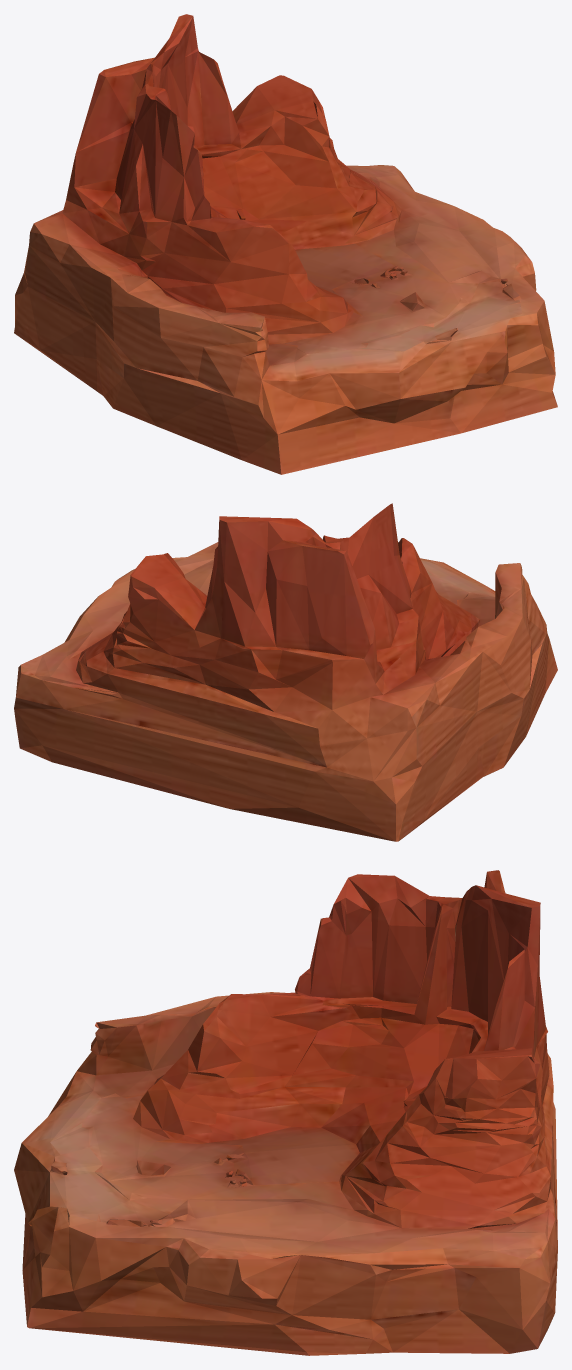
Rendered from red_rock_mesa.glb.
3 views of the same model, one above another, from view 1: azimuth 30°, elevation 25°; view 2: azimuth 150°, elevation 25°; view 3: azimuth 270°, elevation 25° (orthographic). The views are drawn at different scales.
Visible parts, largest first — view 1: textured; view 2: textured; view 3: textured.
Part boxes in pixels (x1=…): textured: x1=14, y1=14, x2=557, y2=474; textured: x1=14, y1=503, x2=557, y2=841; textured: x1=14, y1=870, x2=557, y2=1355.
Size of the model in its own units: 1.96 by 1.3 by 1.94.
1 material, 1 textured.
